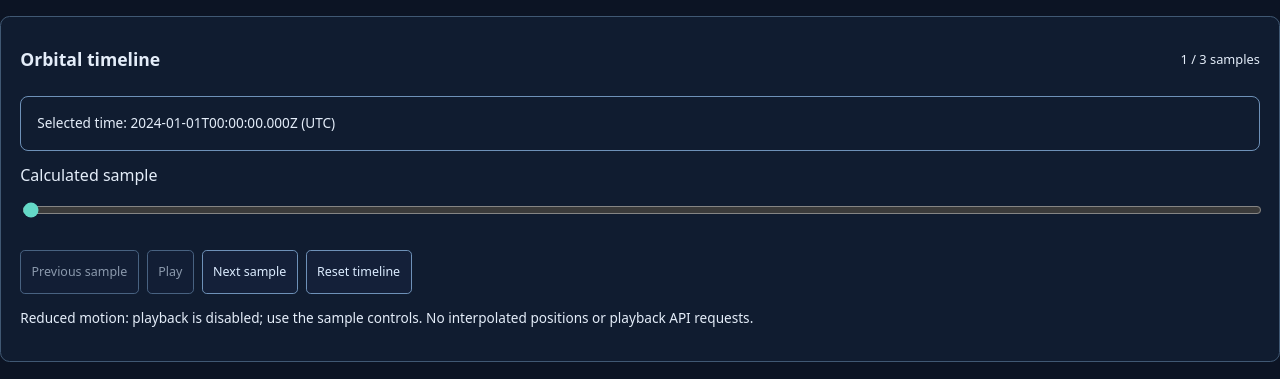
Test: disables automatic playback for reduced motion while preserving manual navigation
The width and height of the screenshot is (1280, 379).
Expected: the button "Play" is disabled, x1=147 y1=250 x2=194 y2=294
Expected: the text "Reduced motion:" is shown, x1=20 y1=308 x2=422 y2=326
What coordinates should you click on to do the following:
click the button "Next sample"
I would click on:
 (250, 272)
Its box is x1=202 y1=250 x2=298 y2=294.
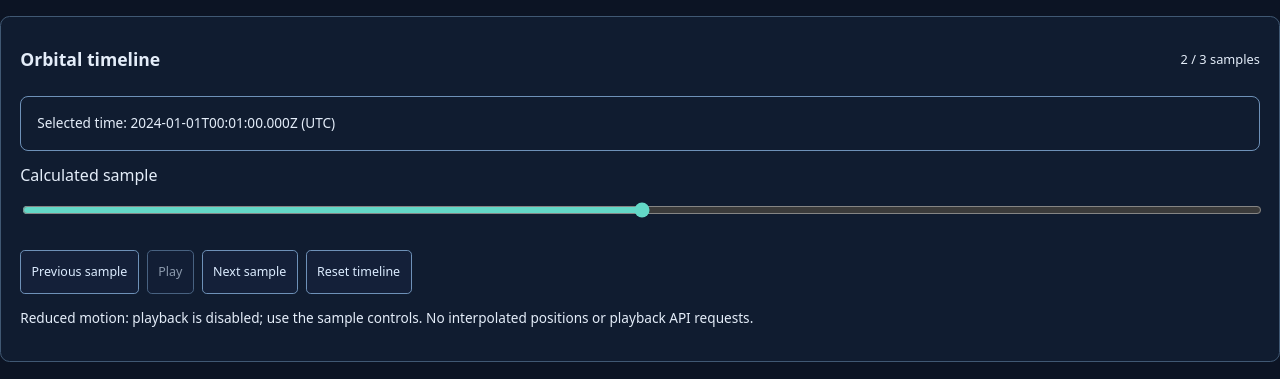
Now the slider holds "1", box x1=22 y1=188 x2=1262 y2=232
